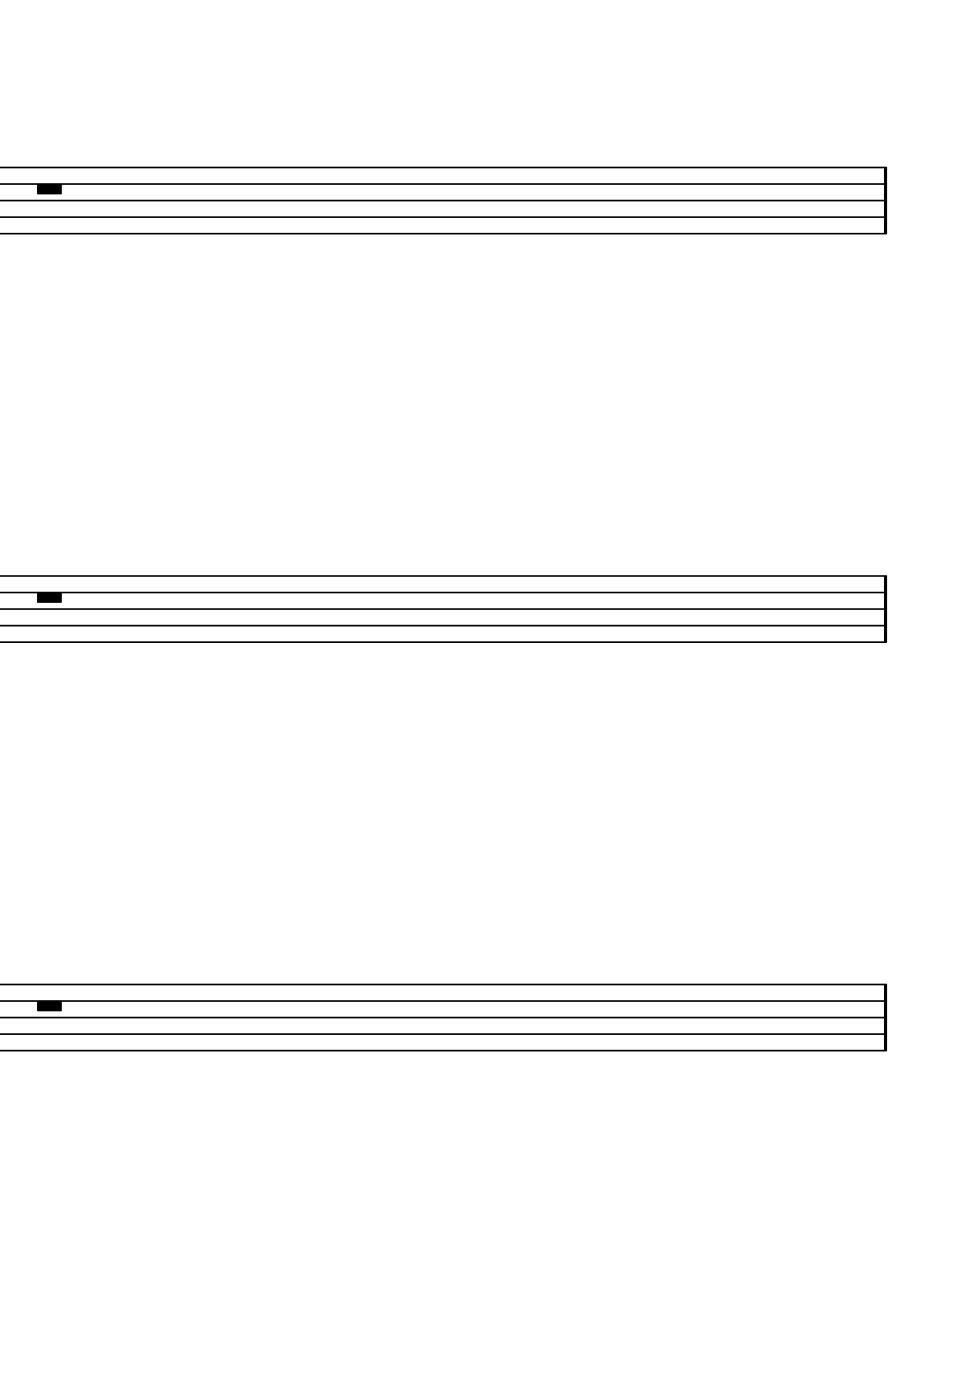Rests1: (30, 178, 67, 198), (30, 587, 67, 607), (30, 996, 67, 1015)
Single_barline: (876, 166, 893, 234), (876, 576, 893, 643), (876, 984, 893, 1051)
